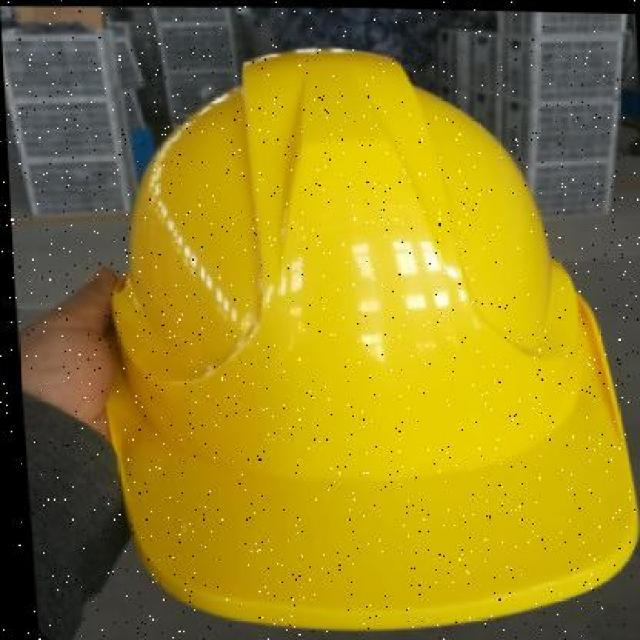helmet: (76, 34, 639, 638)
